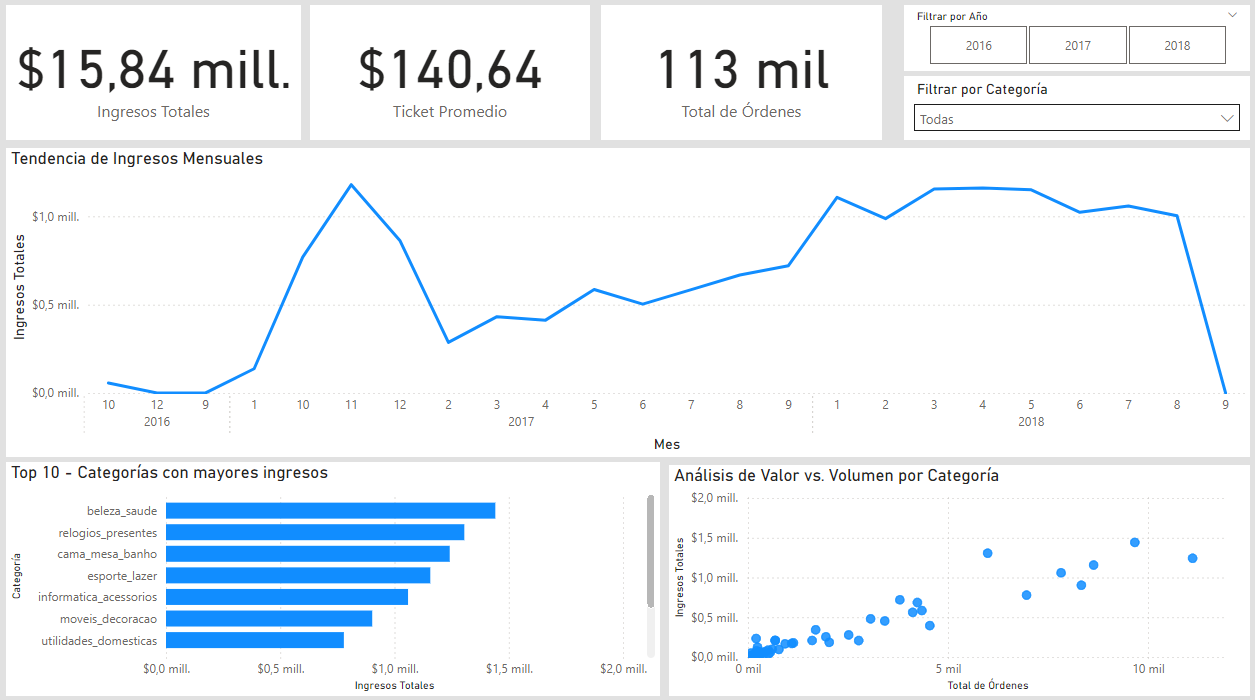

The page's visual inventory and layout, read from the dashboard file:
{"tool":"powerbi","page":{"name":"Página 1","canvas":[1280,720],"ordinal":0},"visuals":[{"type":"card","fields":{"Values":["Sum(Hoja 1.revenue)"]},"box":[17,19,295,135],"z":0},{"type":"card","fields":{"Values":["Sum(Hoja 1.total_orders)"]},"box":[612,19,281,135],"z":1000},{"type":"card","fields":{"Values":["Hoja 1.Ticket Promedio"]},"box":[321,19,280,135],"z":2000},{"type":"lineChart","title":"Tendencia de Ingresos Mensuales","fields":{"Category":["Hoja 1.year","Hoja 1.month"],"Y":["Sum(Hoja 1.revenue)"]},"box":[17,162,1244,309],"z":3000},{"type":"barChart","title":"Top 10  - Categorías con mayores ingresos","fields":{"Category":["Hoja 1.category"],"Y":["Sum(Hoja 1.revenue)"]},"box":[17,476,654,234],"z":3001},{"type":"scatterChart","title":"Análisis de Valor vs. Volumen por Categoría","fields":{"X":["Sum(Hoja 1.total_orders)"],"Y":["Sum(Hoja 1.revenue)"],"Category":["Hoja 1.category"]},"box":[680,479,581,231],"z":3002},{"type":"slicer","fields":{"Values":["Hoja 1.year"]},"box":[915,19,346,66],"z":3003},{"type":"slicer","fields":{"Values":["Hoja 1.category"]},"box":[915,90,346,64],"z":3004}]}

Visuals, with their boxes in screenshot pixels (x1, y1, x2, y2), scaled from the page's 1280x720 canvas onto the 1255x700 screenshot:
card - Sum(Hoja 1.revenue): select_region(17, 18, 306, 150)
card - Sum(Hoja 1.total_orders): select_region(600, 18, 876, 150)
card - Hoja 1.Ticket Promedio: select_region(315, 18, 589, 150)
"Tendencia de Ingresos Mensuales" lineChart: select_region(17, 158, 1236, 458)
"Top 10  - Categorías con mayores ingresos" barChart: select_region(17, 463, 658, 690)
"Análisis de Valor vs. Volumen por Categoría" scatterChart: select_region(667, 466, 1236, 690)
slicer - Hoja 1.year: select_region(897, 18, 1236, 83)
slicer - Hoja 1.category: select_region(897, 88, 1236, 150)
